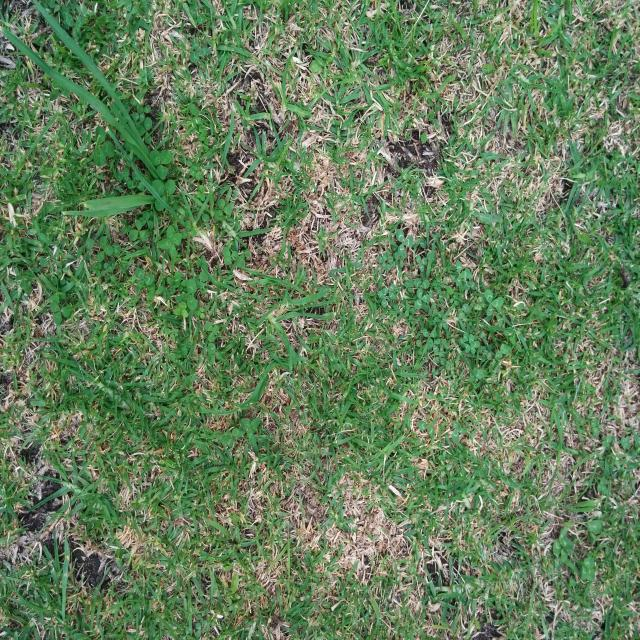Four Leaf Clover: (158, 225, 182, 257)
